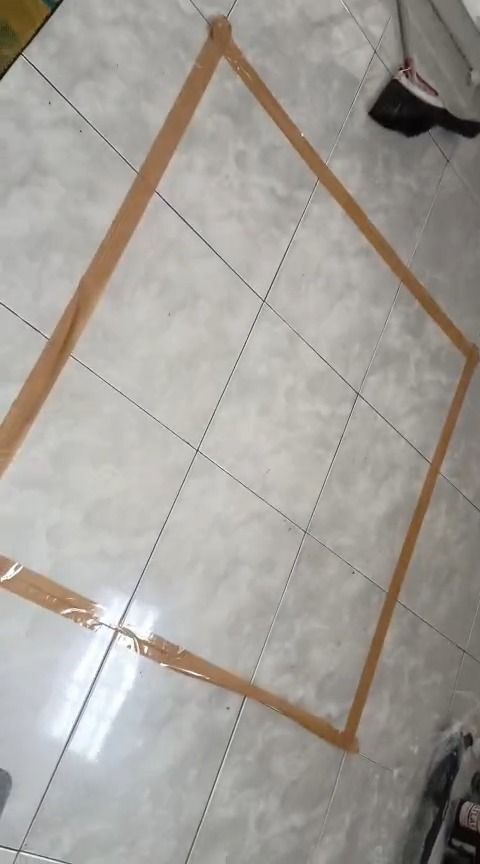floor marking: (0, 16, 479, 753)
